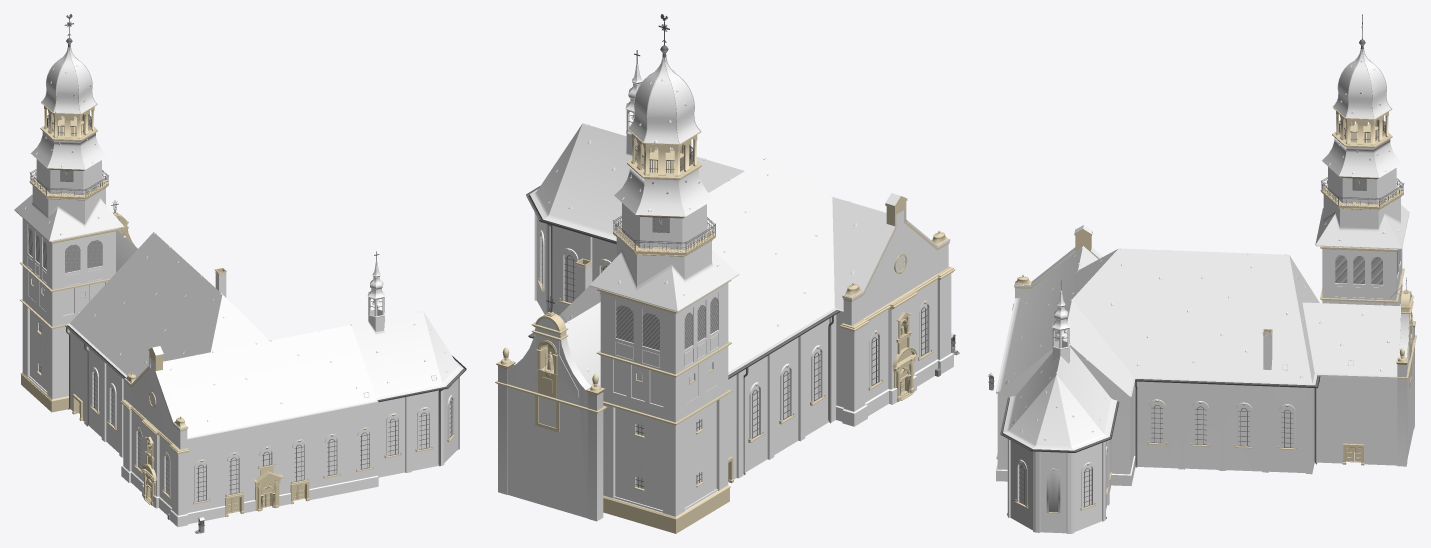
File: liebfrauenkirche_LOD0.glb
3 views of the same model, side by side, from view 1: azimuth 30°, elevation 25°; view 2: azimuth 150°, elevation 25°; view 3: azimuth 270°, elevation 25° (orthographic). The views are drawn at different scales.
Parts seen in each view (by area): view 1: node_1, node_4, node_0, node_3, node_5; view 2: node_4, node_1, node_0, node_3, node_5; view 3: node_1, node_4, node_0, node_3, node_5.
Part boxes in pixels (x1,y1,x2,y2): node_1: (14, 47, 463, 441); node_4: (22, 218, 459, 526); node_0: (20, 102, 455, 516); node_3: (28, 14, 466, 526); node_5: (29, 229, 451, 501); node_4: (498, 209, 953, 521); node_1: (511, 57, 950, 389); node_0: (495, 128, 955, 533); node_3: (526, 14, 955, 488); node_5: (564, 251, 927, 488); node_1: (996, 49, 1409, 450); node_4: (996, 248, 1414, 533); node_0: (996, 106, 1416, 513); node_3: (988, 14, 1406, 518); node_5: (1004, 255, 1383, 506).
Size of the model in its own units: 42.39 by 50.99 by 49.84.
